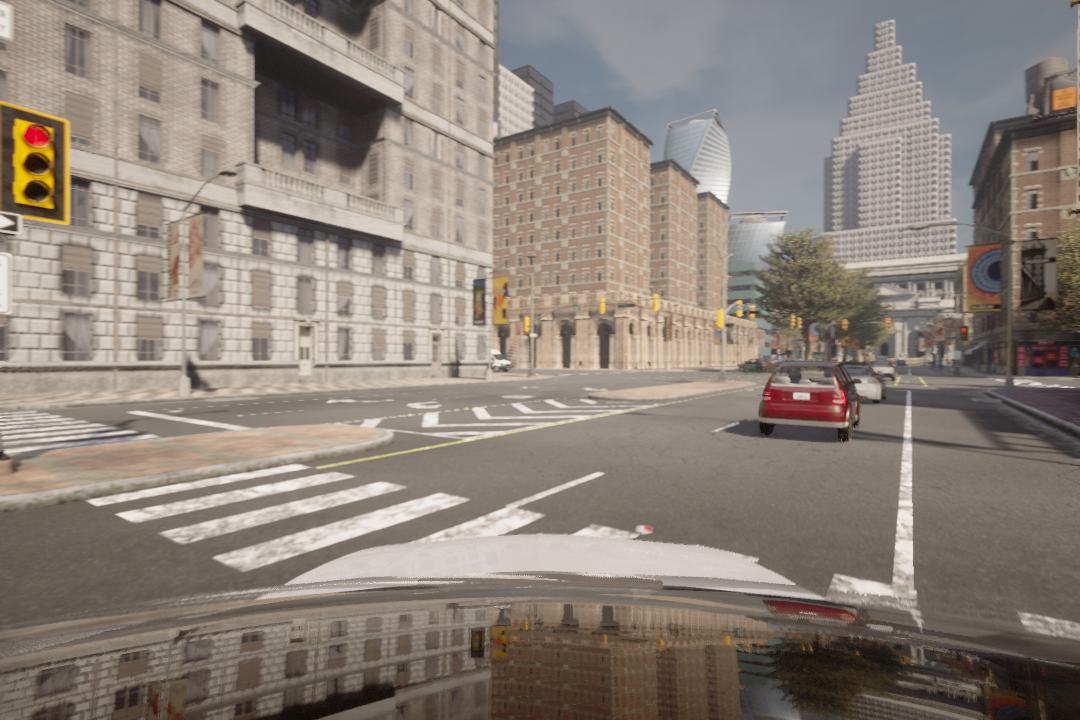TrafficLight: (2, 105, 71, 229)
walkside: (78, 451, 967, 609), (1, 403, 147, 457)
